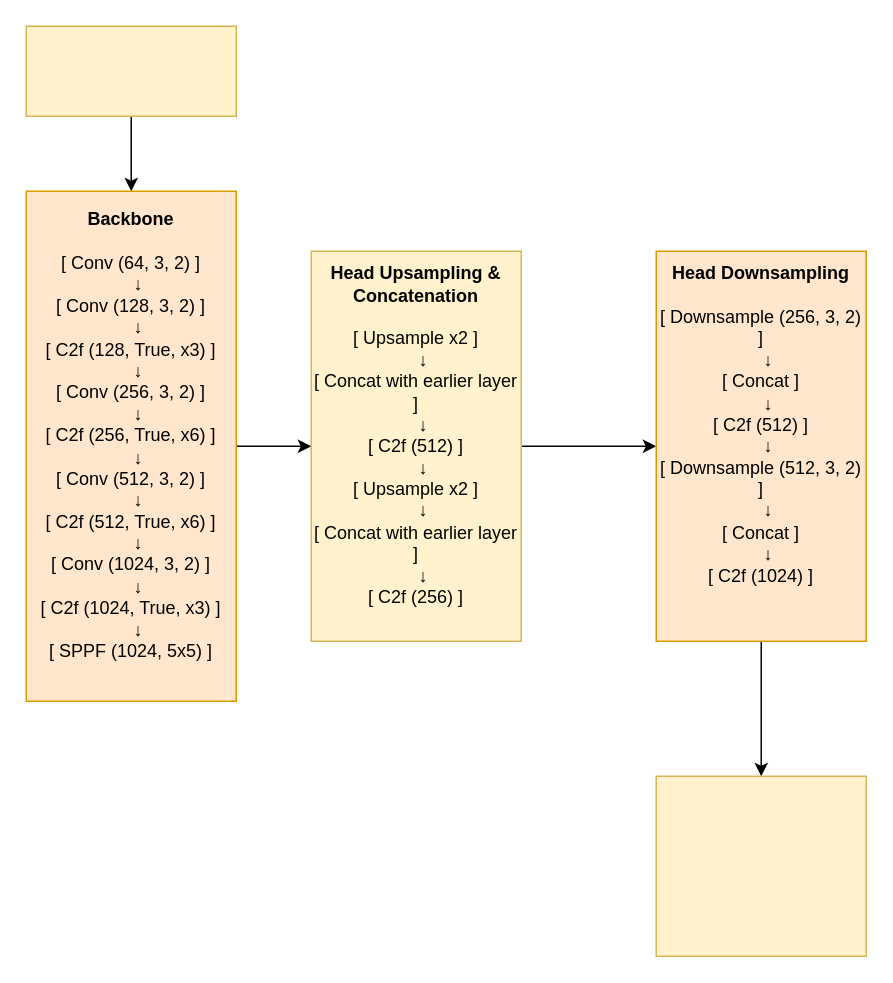
Image size: 893x983. Some labels were removed from this diagram. Each missing label, with the centre of its shape:
"Detection [ Detect (P3 → small, P4 → medium, P5 → large) ]" belongs at (760,865).
"Input Image" belongs at (130,70).
